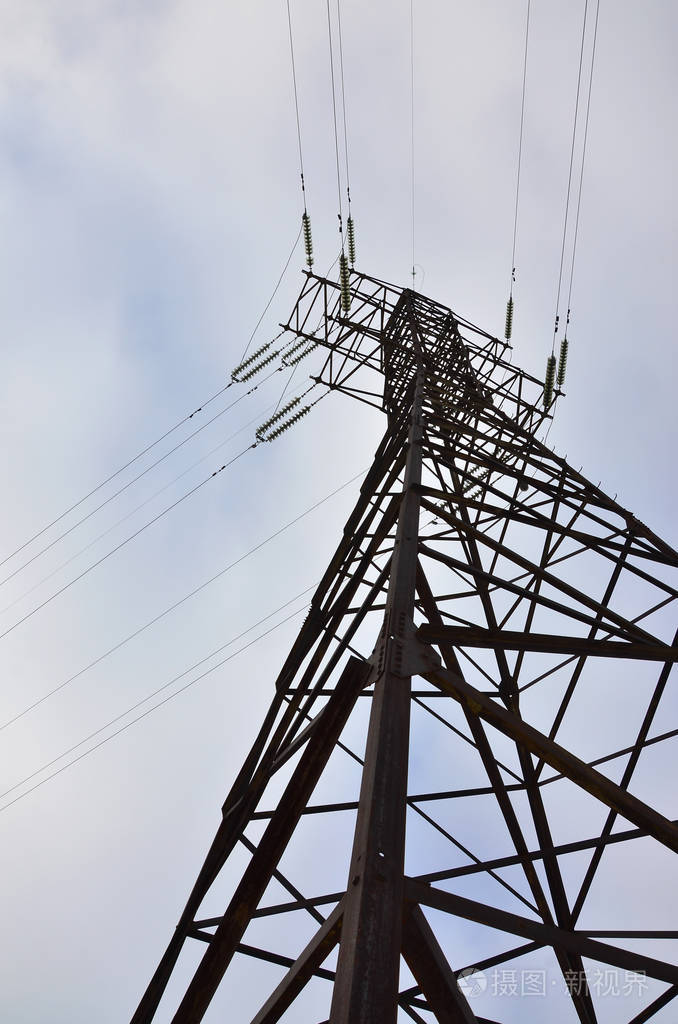insulator: (257, 398, 313, 443), (233, 339, 277, 381), (290, 328, 323, 363), (333, 255, 352, 313), (541, 354, 557, 409), (301, 212, 316, 267), (346, 214, 360, 259), (556, 338, 570, 383), (501, 298, 516, 338)
